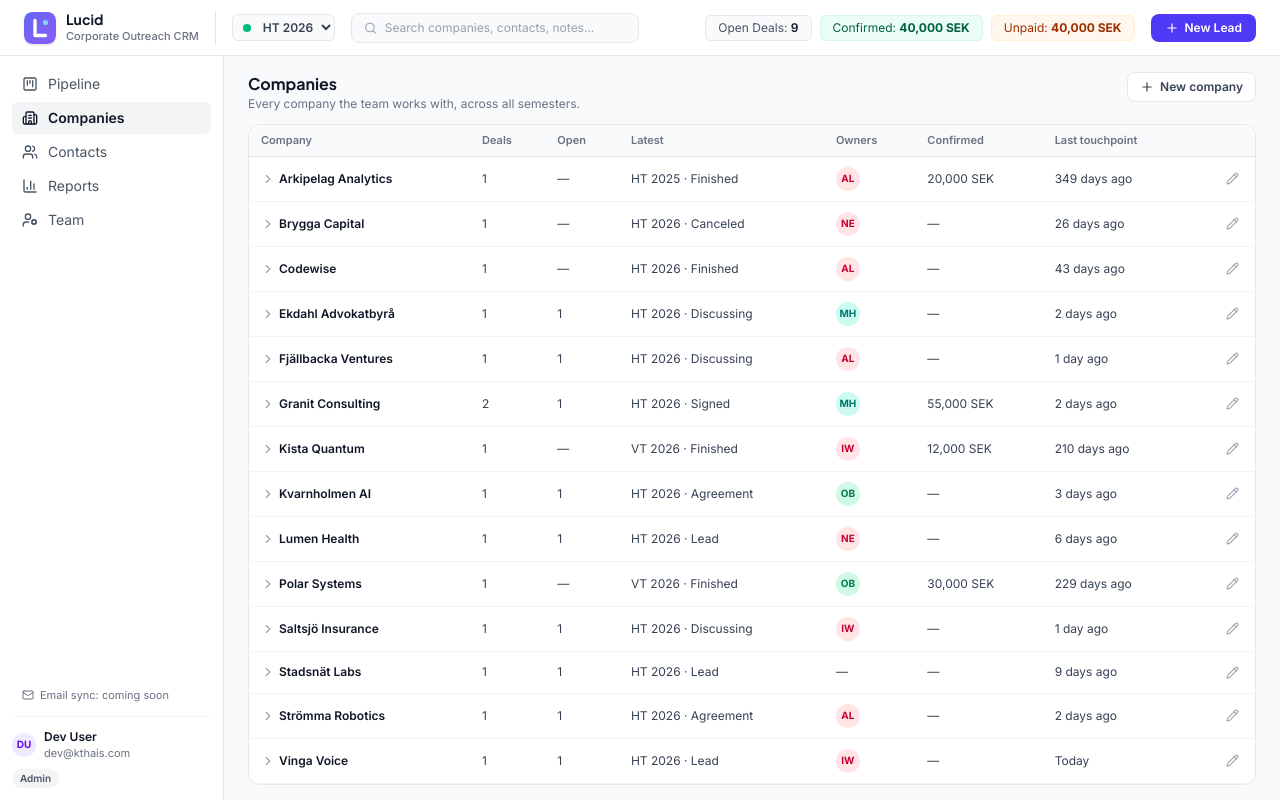
search filters companies and contacts
The width and height of the screenshot is (1280, 800).
Expected: the button "Granit Consulting" is shown, [261,396,380,412]
In the search field labelled "Search": (505, 28) [385,20,626,36], type "lumen"
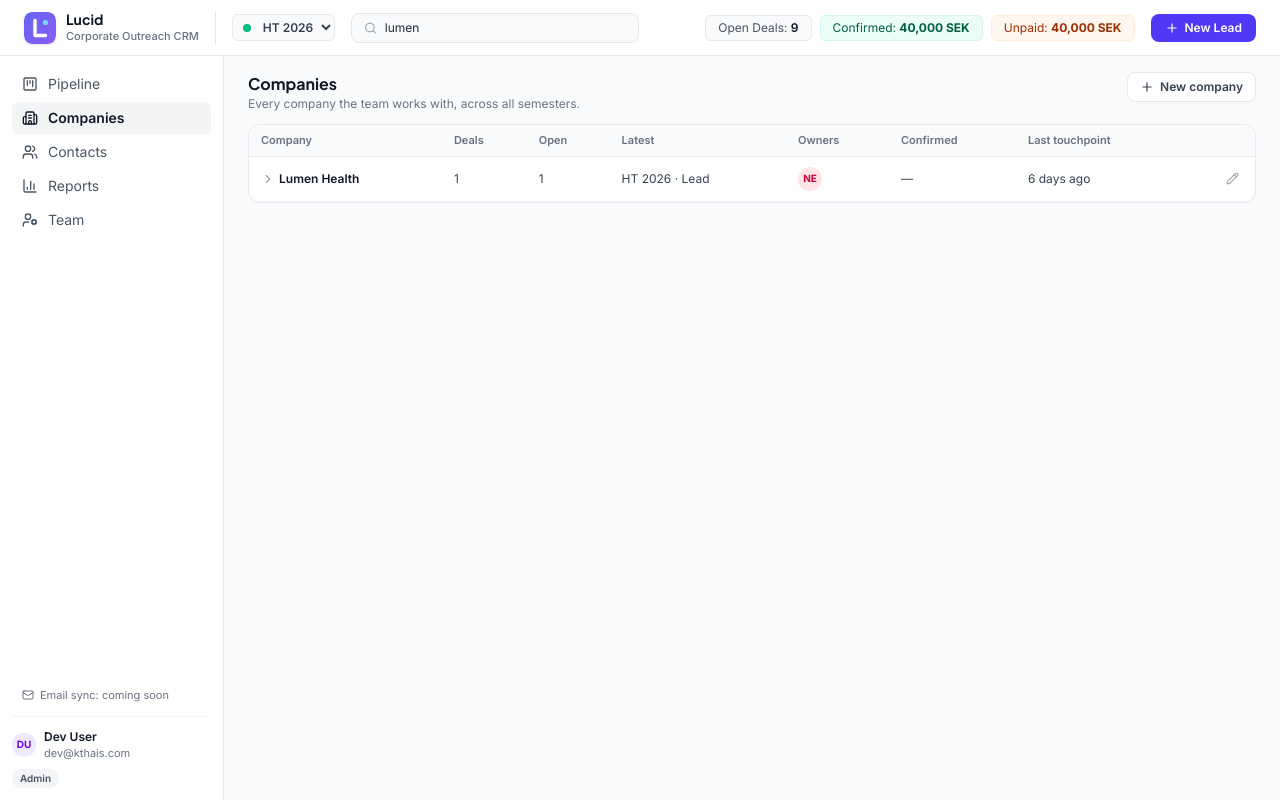
Expected: the button "Lumen Health" is shown, [261,171,359,187]
Now the button "Granit Consulting" is gone
